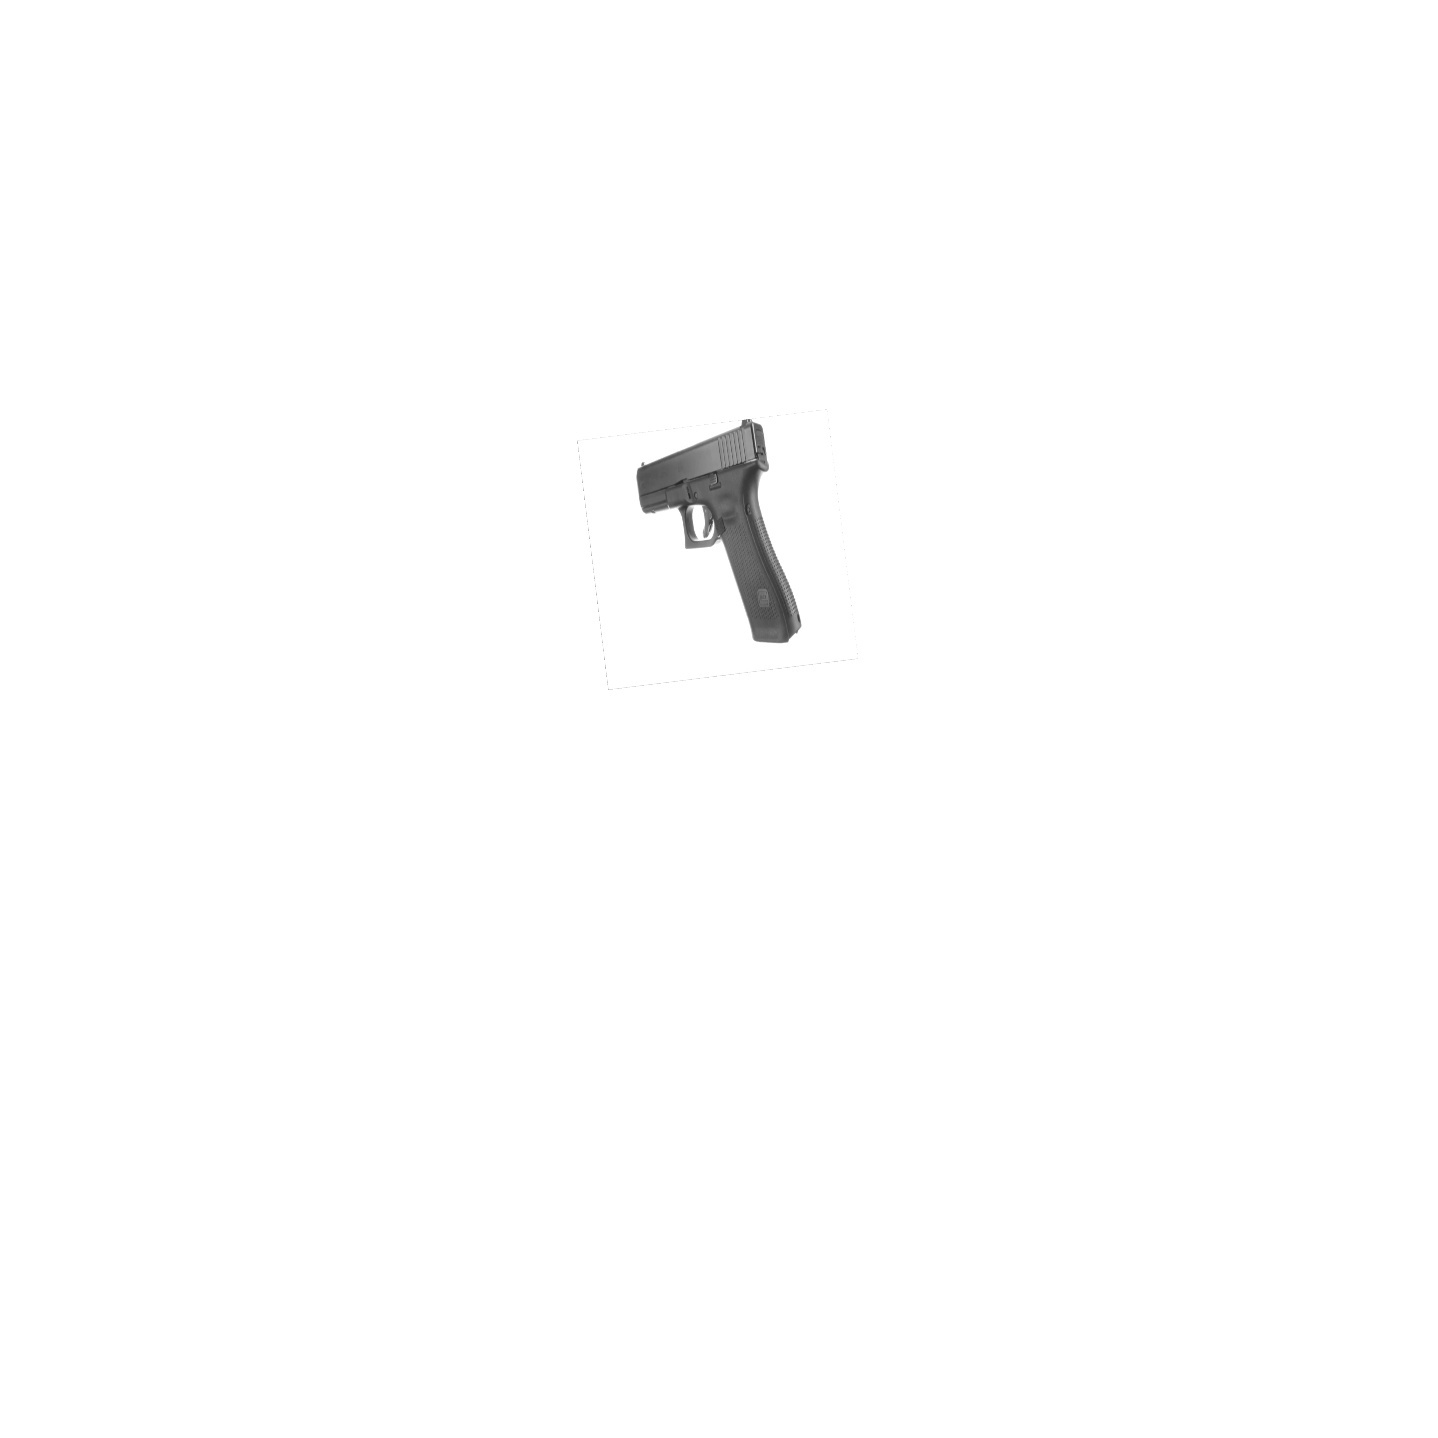gun: (639, 420, 802, 644)
